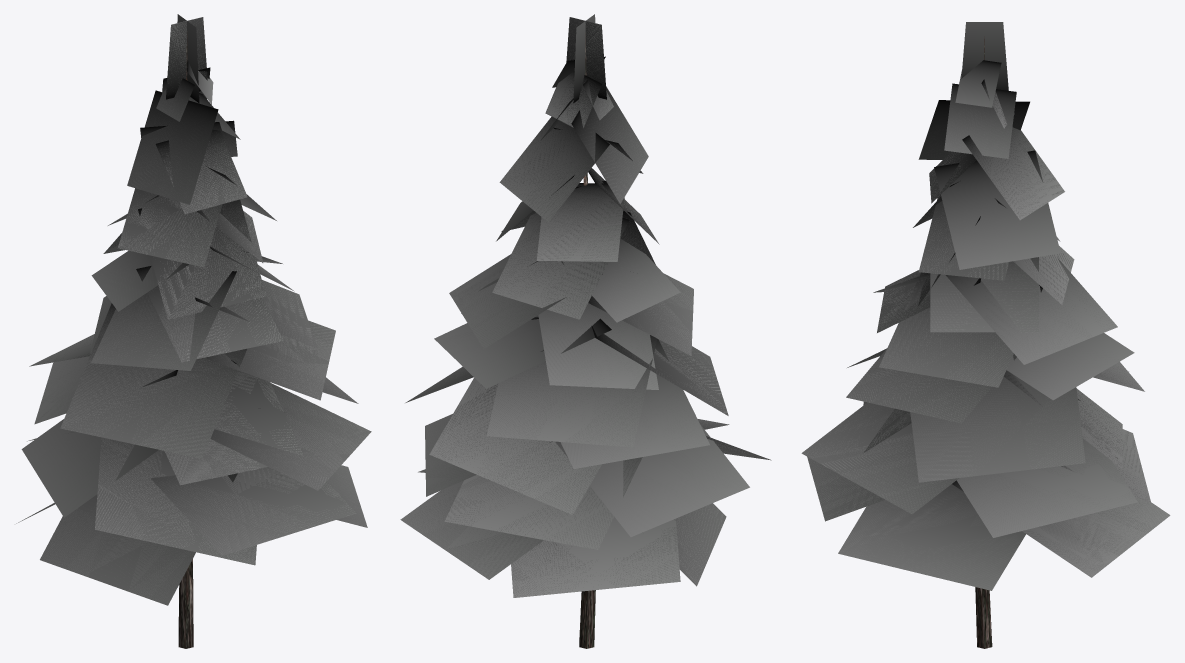
The model's file is tree15.FBX.
3 renders of one model, left to right at view 1: azimuth 30°, elevation 25°; view 2: azimuth 150°, elevation 25°; view 3: azimuth 270°, elevation 25°, orthographic.
Parts seen in each view (by area): view 1: tree15_leafs, tree15_leafs1, tree15_trunk; view 2: tree15_leafs, tree15_leafs1, tree15_trunk; view 3: tree15_leafs, tree15_leafs1, tree15_trunk.
Part boxes in pixels (box(x1,y1,x2,y2)): tree15_leafs: box(16, 14, 371, 605); tree15_leafs1: box(22, 14, 369, 604); tree15_trunk: box(178, 31, 193, 648); tree15_leafs: box(400, 14, 771, 597); tree15_leafs1: box(402, 14, 769, 597); tree15_trunk: box(579, 32, 595, 648); tree15_leafs: box(801, 22, 1170, 590); tree15_leafs1: box(803, 22, 1168, 590); tree15_trunk: box(975, 36, 992, 648).
Size of the model in its own units: 879 by 1700 by 912.
